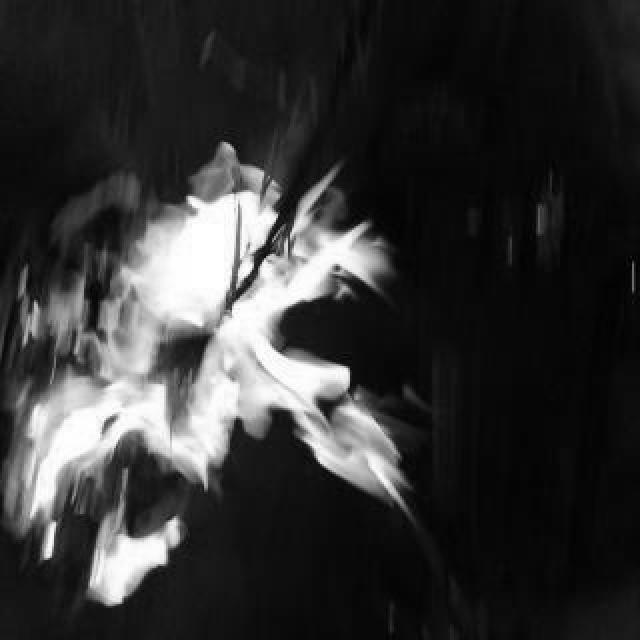Fire: (2, 148, 434, 616)
